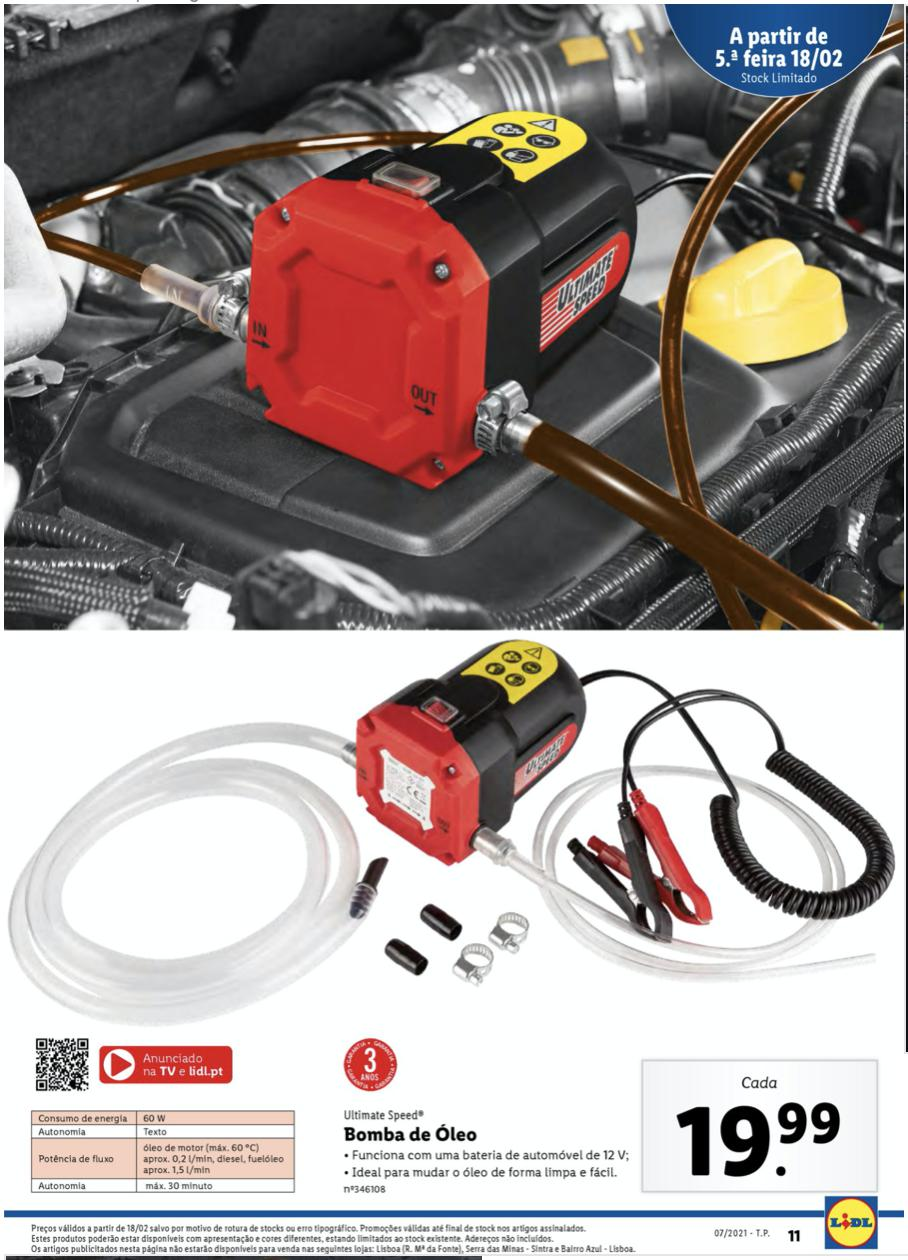name: (341, 1123, 482, 1146)
price: (672, 1096, 838, 1179)
product: (13, 632, 886, 1210)
